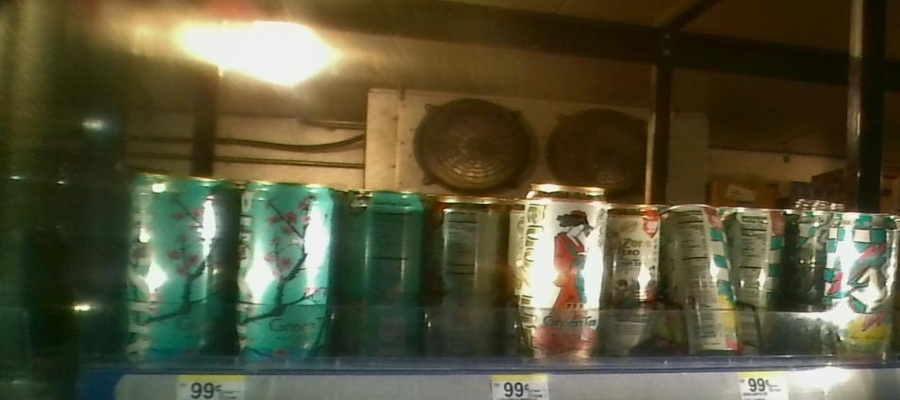bottle: (121, 162, 227, 361), (231, 165, 337, 358), (521, 173, 607, 369), (344, 174, 425, 368), (430, 182, 508, 364), (663, 194, 734, 363), (826, 203, 900, 365), (608, 190, 662, 365), (735, 199, 785, 364)
